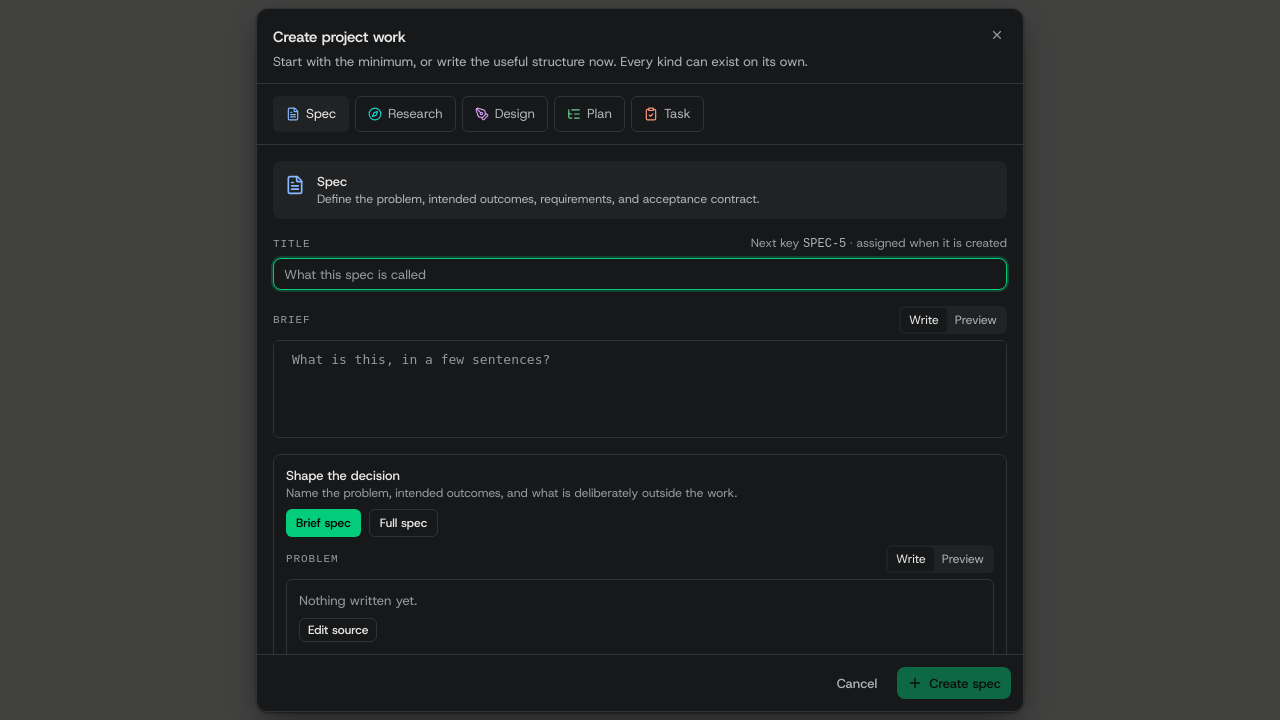
+ Create › shows the key this project hands out next, before anything is created
// Switching kind switches the key, with no request in between.
Click the button "Plan". click: click(590, 114)
box: [554,96,625,132]
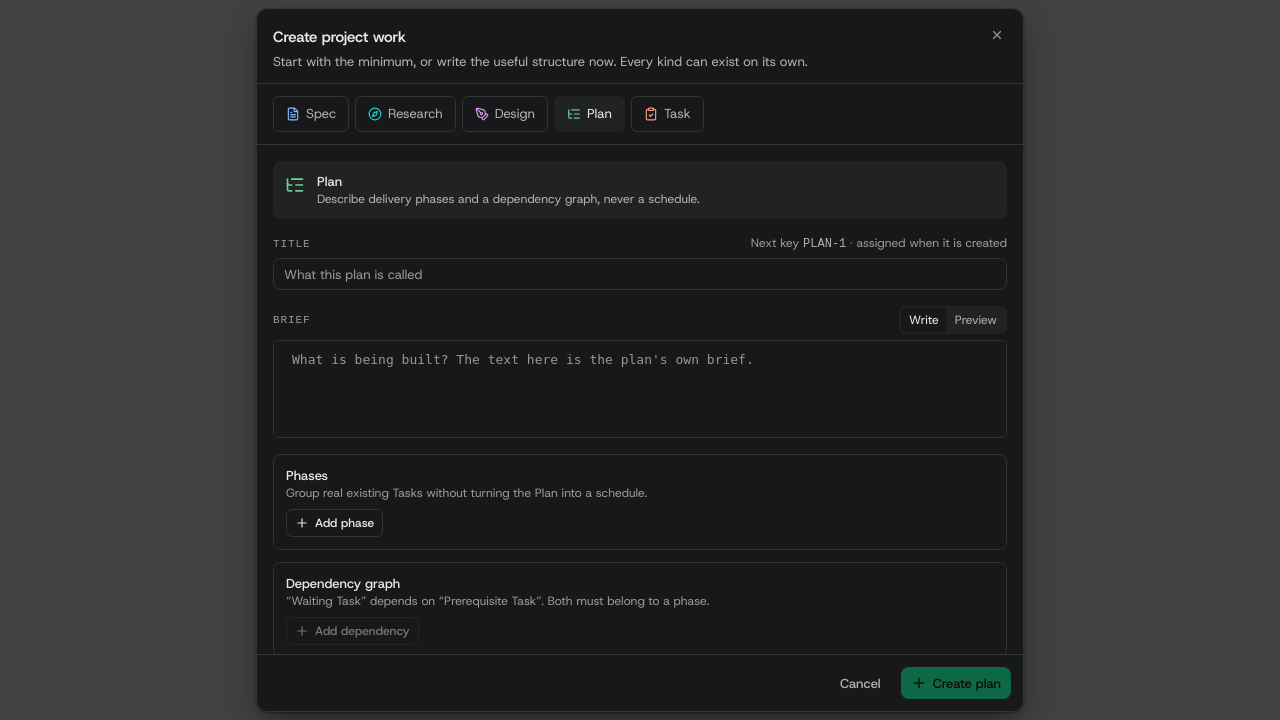
expect the text "PLAN-1" is shown: met, box [803,237,846,251]
